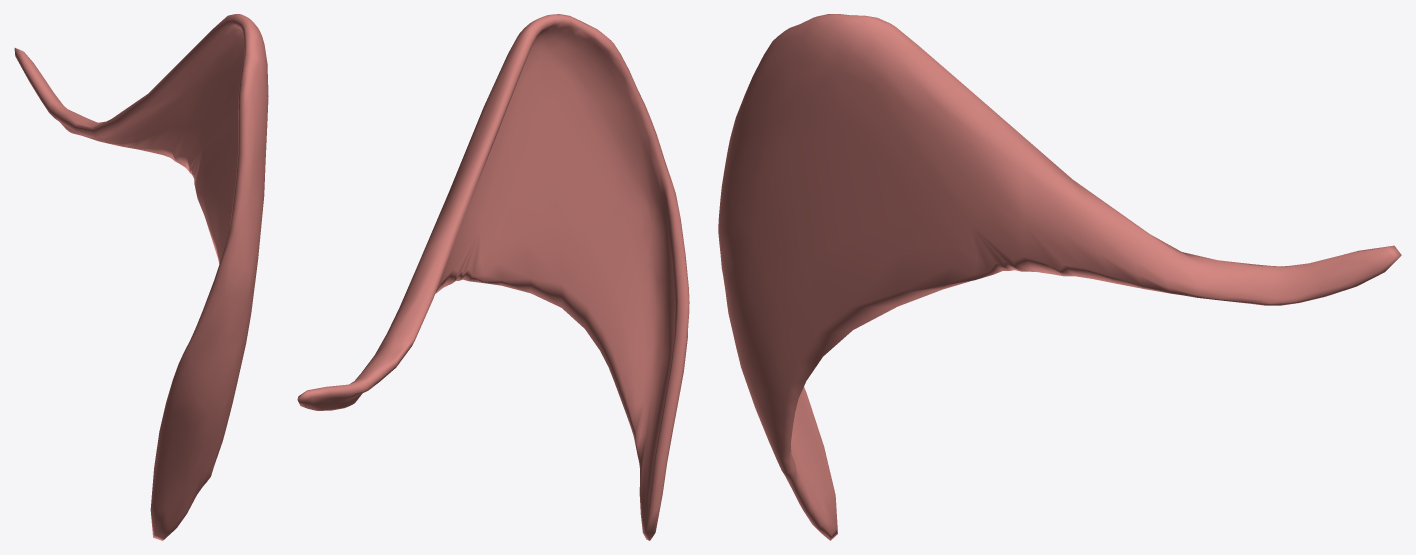
3 renders of one model, left to right at view 1: azimuth 30°, elevation 25°; view 2: azimuth 150°, elevation 25°; view 3: azimuth 270°, elevation 25°, orthographic. The views are drawn at different scales.
Parts seen in each view (by area): view 1: ZA_26282198a39beef2; view 2: ZA_26282198a39beef2; view 3: ZA_26282198a39beef2.
Boxes of the visible parts, box(x1,y1,x2,y2) form: ZA_26282198a39beef2: box(14, 14, 268, 540); ZA_26282198a39beef2: box(297, 14, 689, 540); ZA_26282198a39beef2: box(718, 14, 1401, 540).
Bounding box in the file's own units: 0.00576 × 0.0205 × 0.0219.
